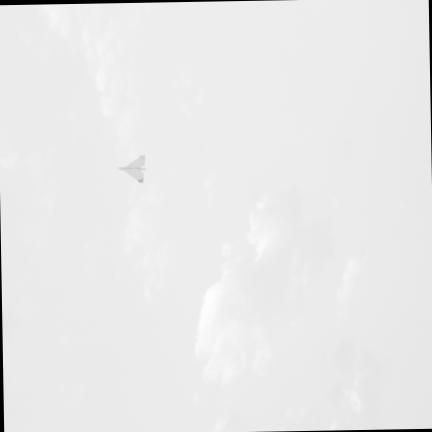Shahed: (117, 154, 144, 181)
